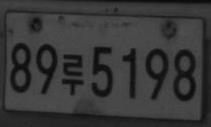1: (118, 46, 143, 98)
5: (90, 45, 114, 97)
8: (170, 47, 197, 102), (8, 41, 32, 93)
9: (144, 47, 170, 100), (33, 42, 58, 94)
루: (61, 53, 85, 95)
